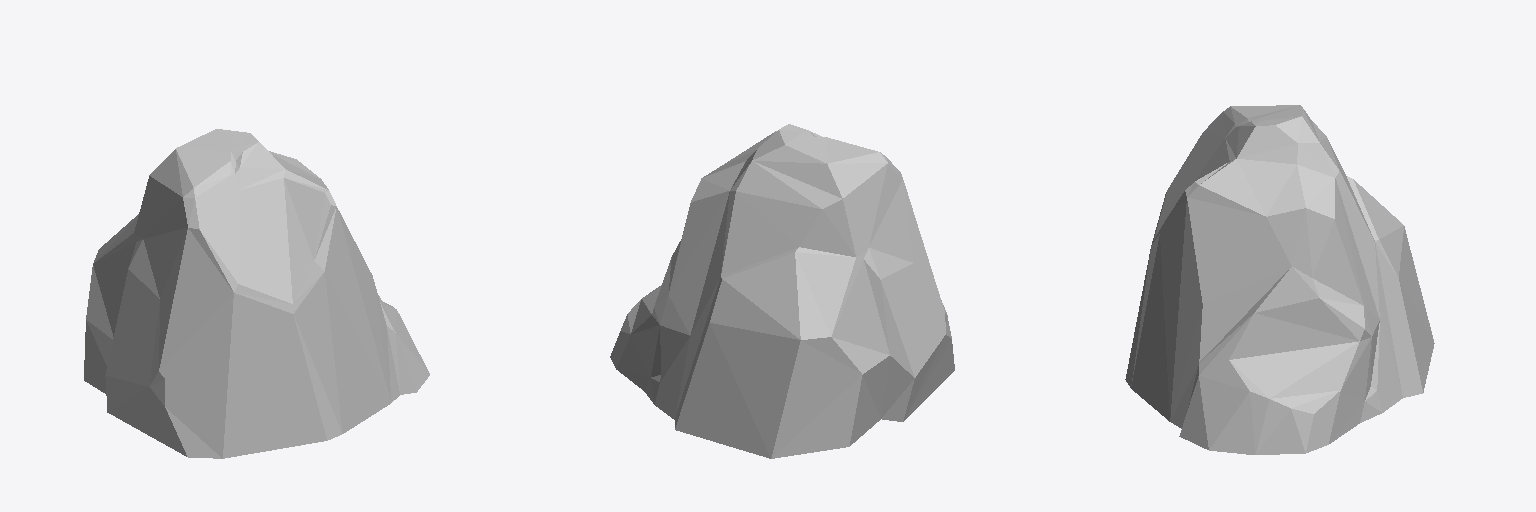
Rendered from stone2.obj.
3 views of the same model, side by side, from view 1: azimuth 30°, elevation 25°; view 2: azimuth 150°, elevation 25°; view 3: azimuth 270°, elevation 25° (orthographic).
Visible parts, largest first — view 1: Rock_3; view 2: Rock_3; view 3: Rock_3.
Part boxes in pixels (bbox=[...]): Rock_3: bbox=[84, 129, 429, 458]; Rock_3: bbox=[610, 124, 954, 458]; Rock_3: bbox=[1125, 105, 1434, 454].
Size of the model in its own units: 1.05 by 0.854 by 0.9437.